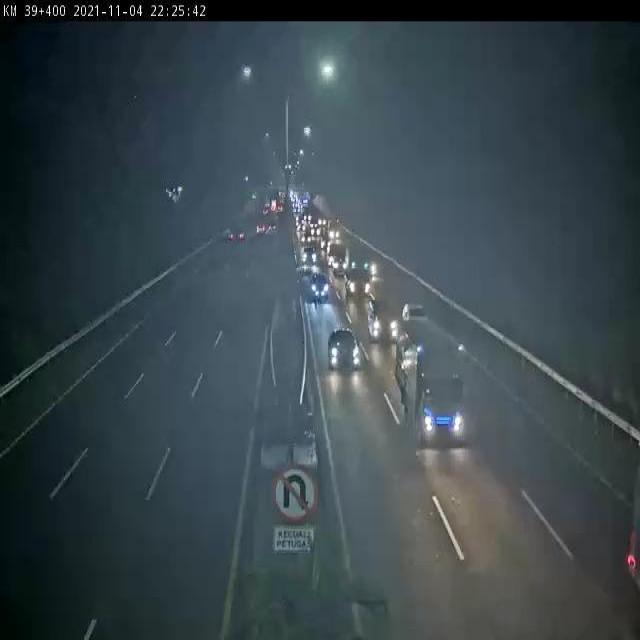car: (363, 292, 403, 349), (344, 259, 376, 305), (327, 330, 359, 370), (308, 269, 332, 299)
truck-m-: (396, 320, 466, 447)
